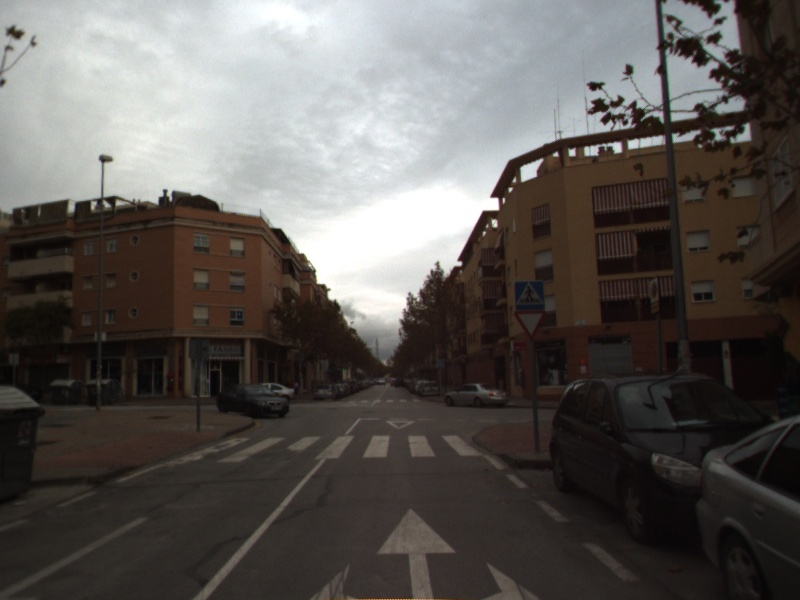STRAIGHT_LEFT_RIGHT: (303, 503, 544, 600)
